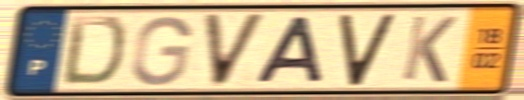A: (253, 14, 327, 86)
D: (59, 14, 129, 88)
G: (128, 13, 195, 88)
K: (398, 13, 460, 85)
V: (200, 11, 271, 90), (336, 10, 400, 89)
